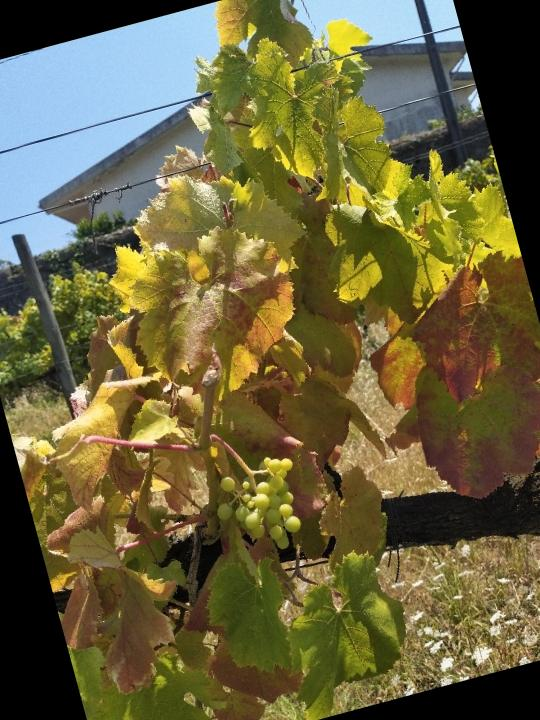grape: (205, 446, 316, 564)
